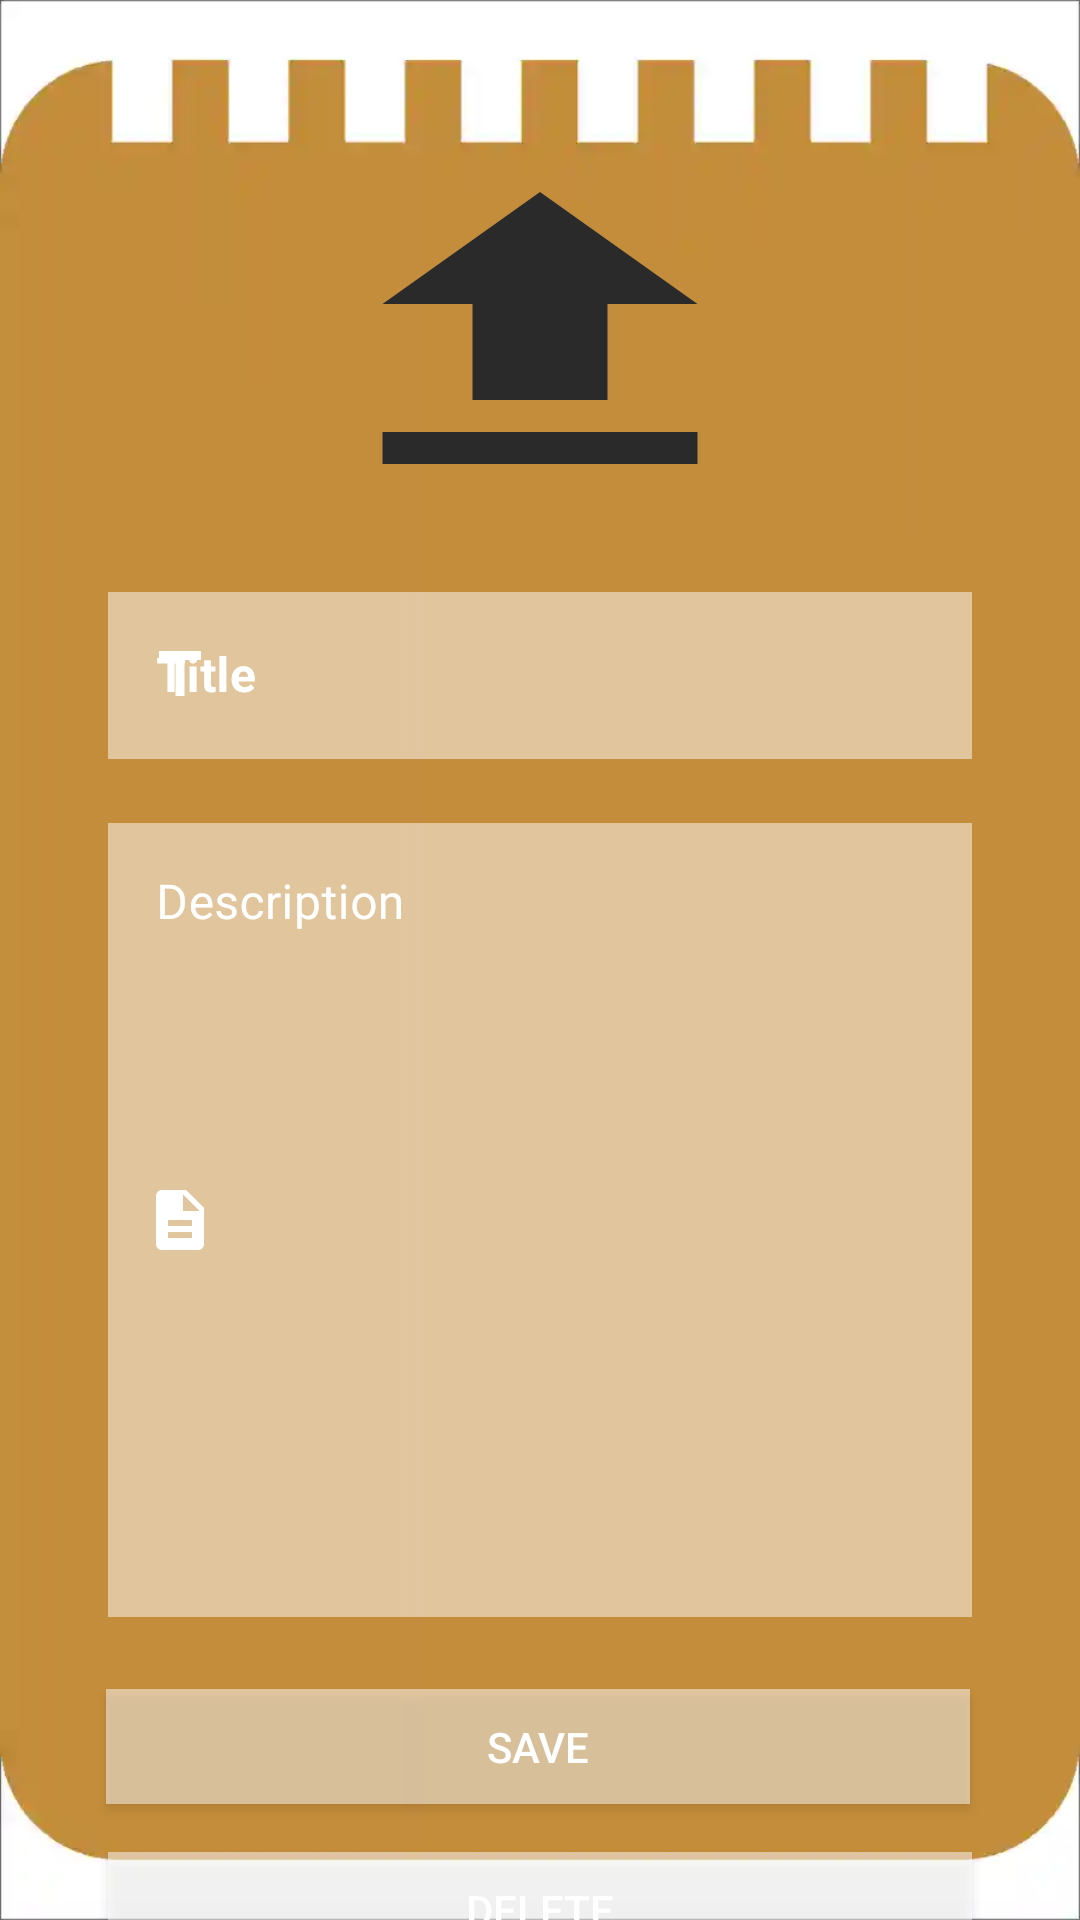

Screen size 1080×1920. Icon name, then its center in pixels as [x,y]:
upload: [540,328]
